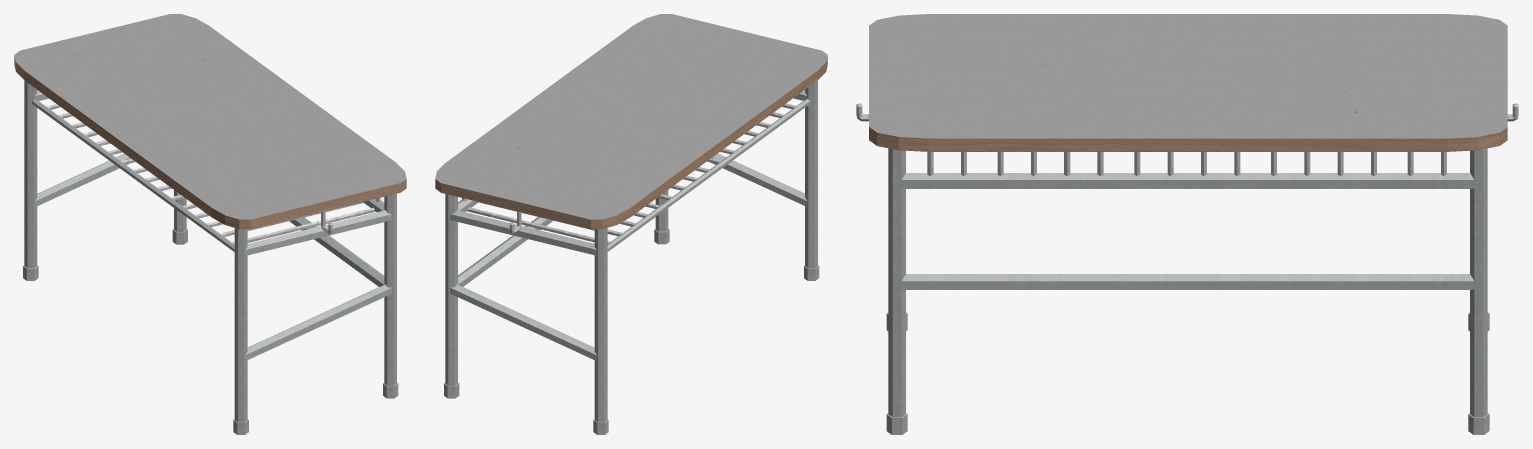
The model's file is Banco.fbx.
3 renders of one model, left to right at view 1: azimuth 30°, elevation 25°; view 2: azimuth 150°, elevation 25°; view 3: azimuth 270°, elevation 25°, orthographic. The views are drawn at different scales.
Parts seen in each view (by area): view 1: Mesa; view 2: Mesa; view 3: Mesa.
Part boxes in pixels (x1,y1,x2,y2): Mesa: (14,14,406,434); Mesa: (435,14,827,434); Mesa: (856,14,1518,434).
Bounding box in the file's own units: 60 × 68.35 × 135.
4 materials, 4 textured.
